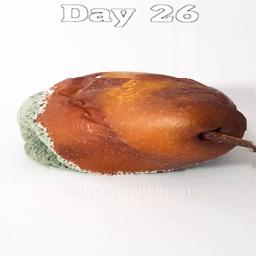Pear Rotten: (20, 79, 256, 186)
